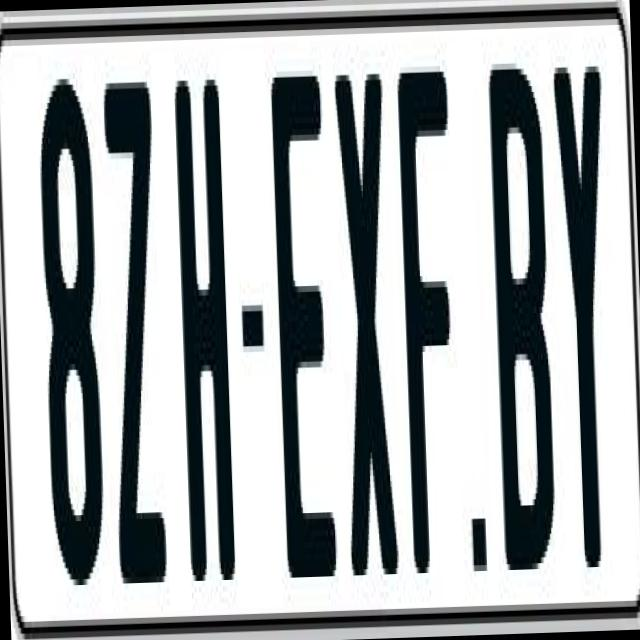8: (32, 78, 108, 614)
B: (484, 62, 556, 576)
E: (270, 64, 342, 589)
F: (395, 59, 470, 579)
H: (170, 67, 232, 598)
X: (334, 61, 407, 563)
Y: (548, 54, 620, 562)
Z: (100, 70, 168, 589)
